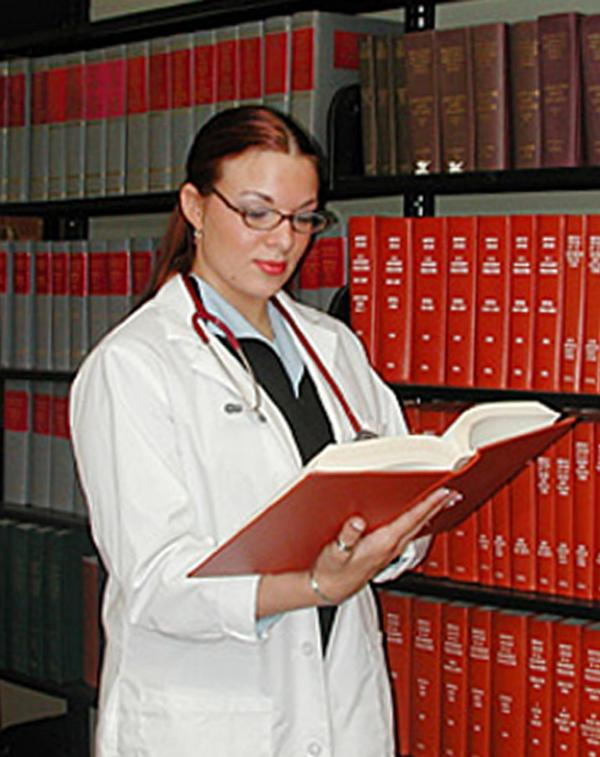person: (68, 107, 464, 756)
